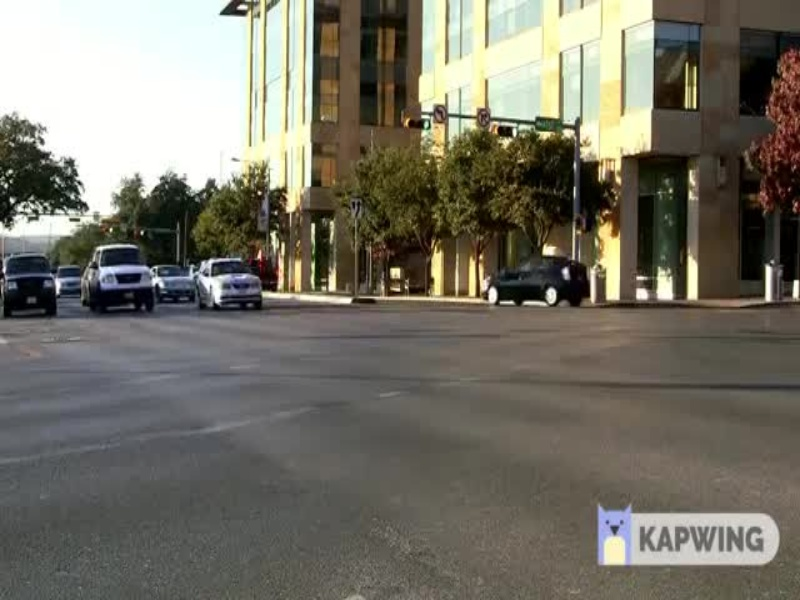car: (476, 250, 603, 311), (72, 247, 159, 315), (1, 243, 62, 327), (191, 255, 269, 311)
